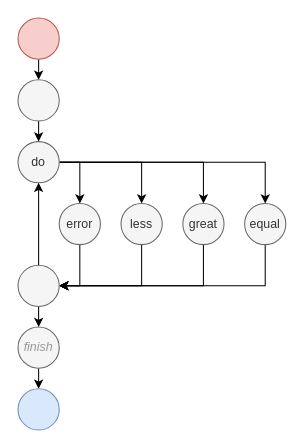
This 304x448 diagram has some shape labels left out. Each missing label, with the box of its shape:
init: (17, 79, 59, 121)
while: (17, 264, 59, 306)
